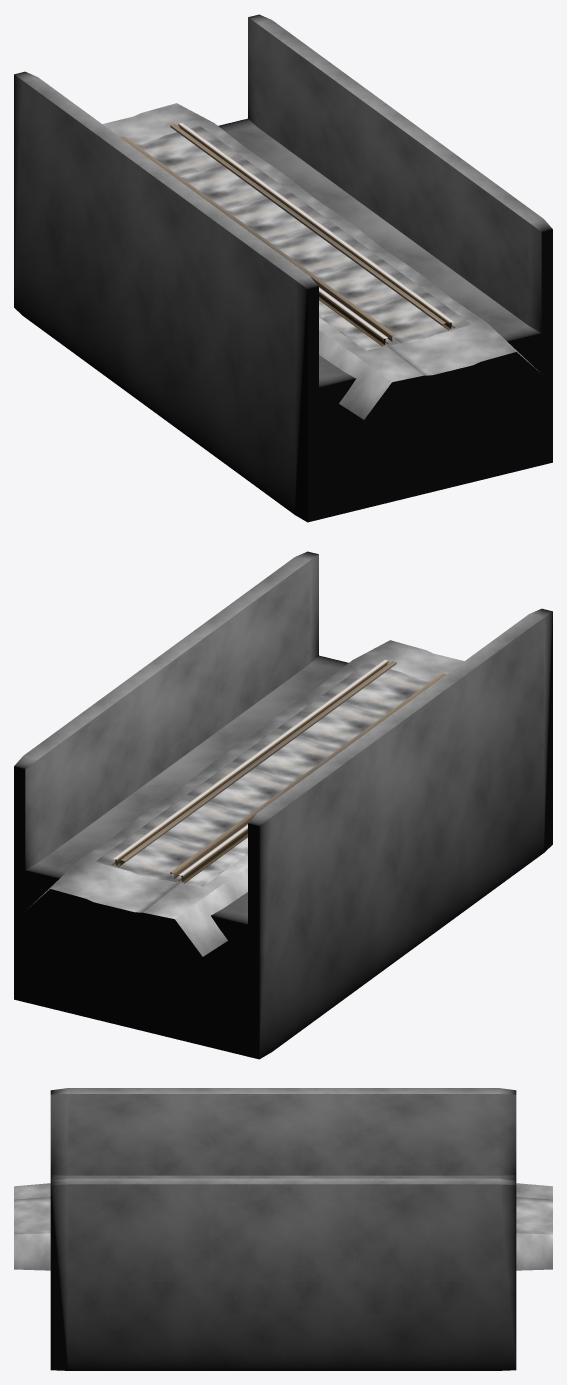
Rendered from NK_1RAIL_25_WALL.glb.
3 views of the same model, one above another, from view 1: azimuth 30°, elevation 25°; view 2: azimuth 150°, elevation 25°; view 3: azimuth 270°, elevation 25° (orthographic). The views are drawn at different scales.
Visible parts, largest first — view 1: obj3, R000_RG_L2, R000_RG_R2; view 2: obj3, R000_RG_L2, R000_RG_R2; view 3: obj3.
Part boxes in pixels (x1=…): obj3: x1=14, y1=14, x2=552, y2=522; R000_RG_L2: x1=170, y1=124, x2=445, y2=325; R000_RG_R2: x1=120, y1=136, x2=395, y2=341; obj3: x1=14, y1=551, x2=552, y2=1059; R000_RG_L2: x1=120, y1=661, x2=396, y2=865; R000_RG_R2: x1=170, y1=673, x2=446, y2=878; obj3: x1=14, y1=1088, x2=552, y2=1370.
Size of the model in its own units: 13.23 by 11.93 by 31.25.
7 materials, 7 textured.
